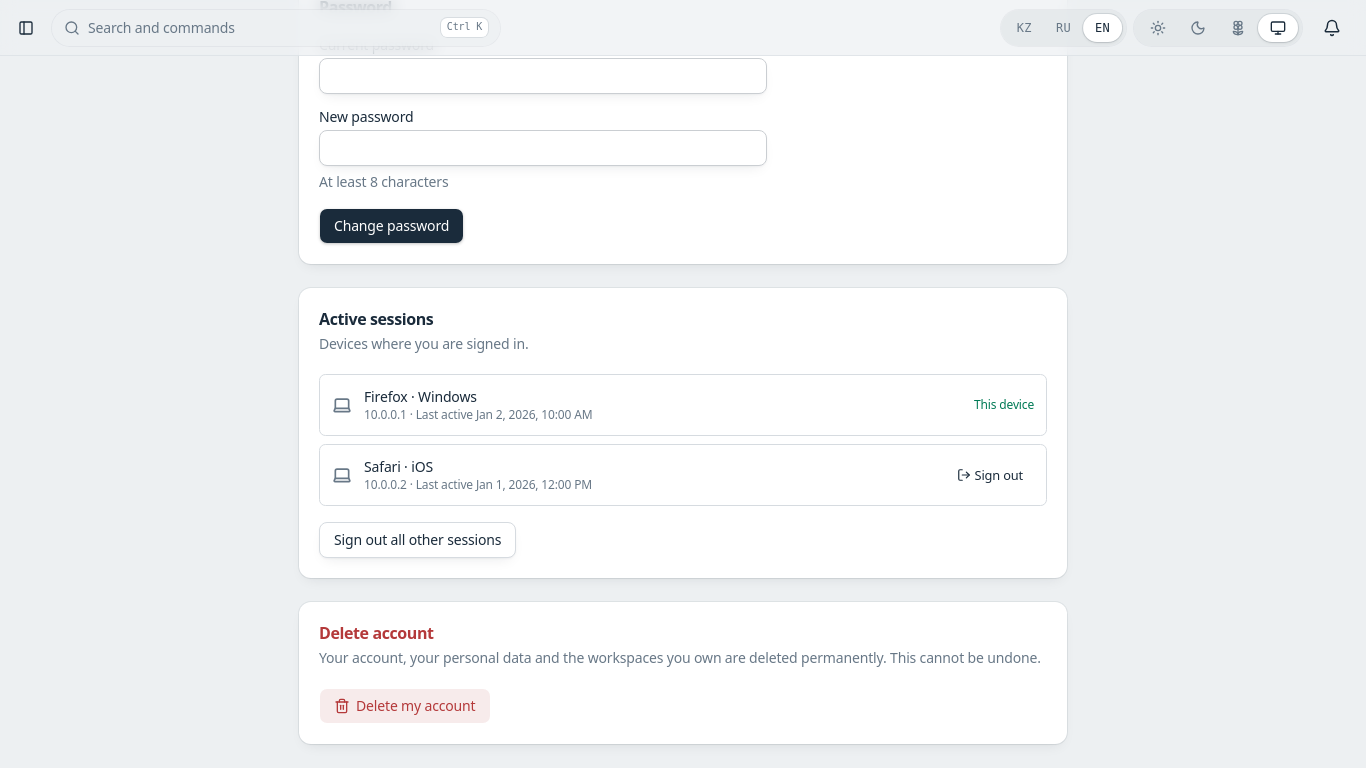
Test: settings › requires the password and a confirmation before deleting the account
(page scrolled)
Click the button "Delete my account": (405, 706) 319,688 -> 490,724
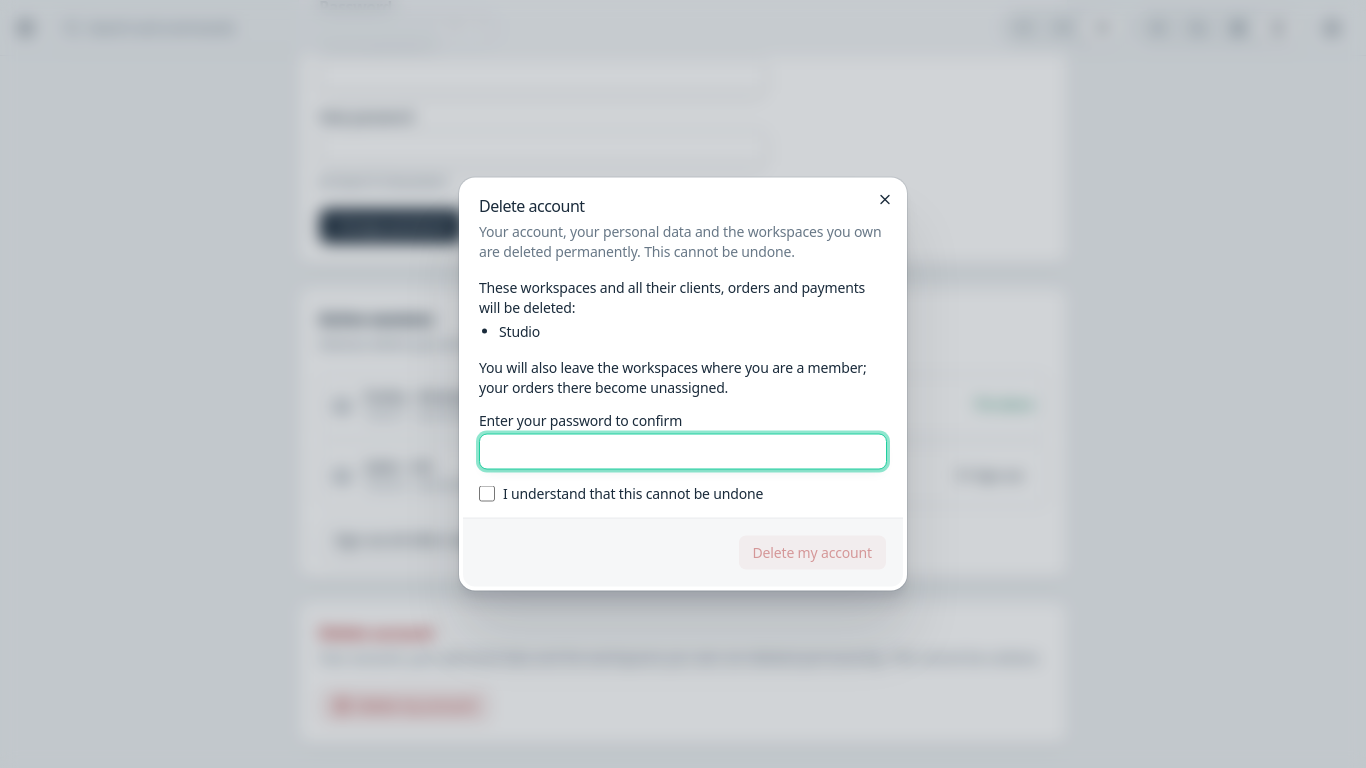
Result: the list item "Studio" is shown at 499,322 -> 540,340
Result: the button "Delete my account" is disabled at 738,534 -> 887,570
In the password field labelled "Enter your password to confirm": (683, 452) 479,434 -> 887,470, type "Str0ngPassw0rd!"
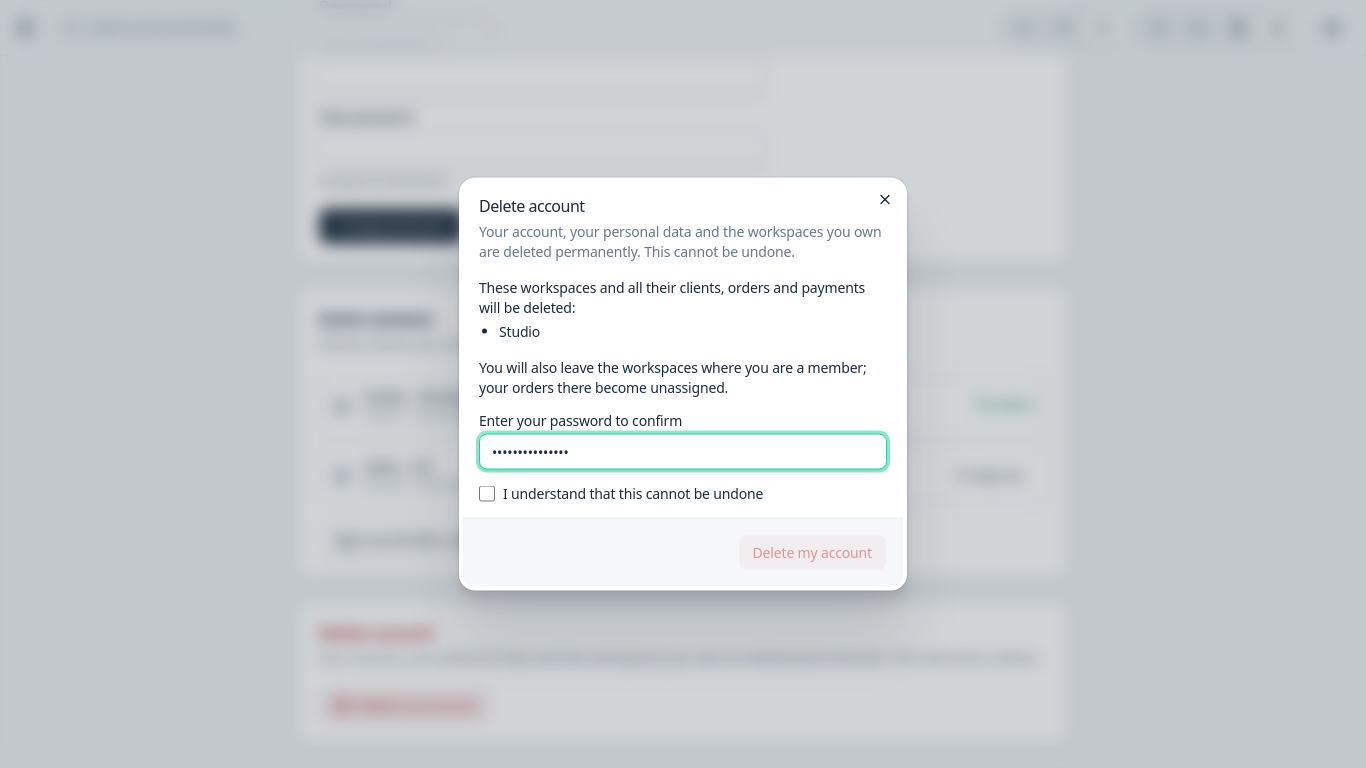
Result: the button "Delete my account" is disabled at 738,534 -> 887,570
Click the checkbox labelled "I understand that this cannot be undone": (487, 494) 479,486 -> 495,502
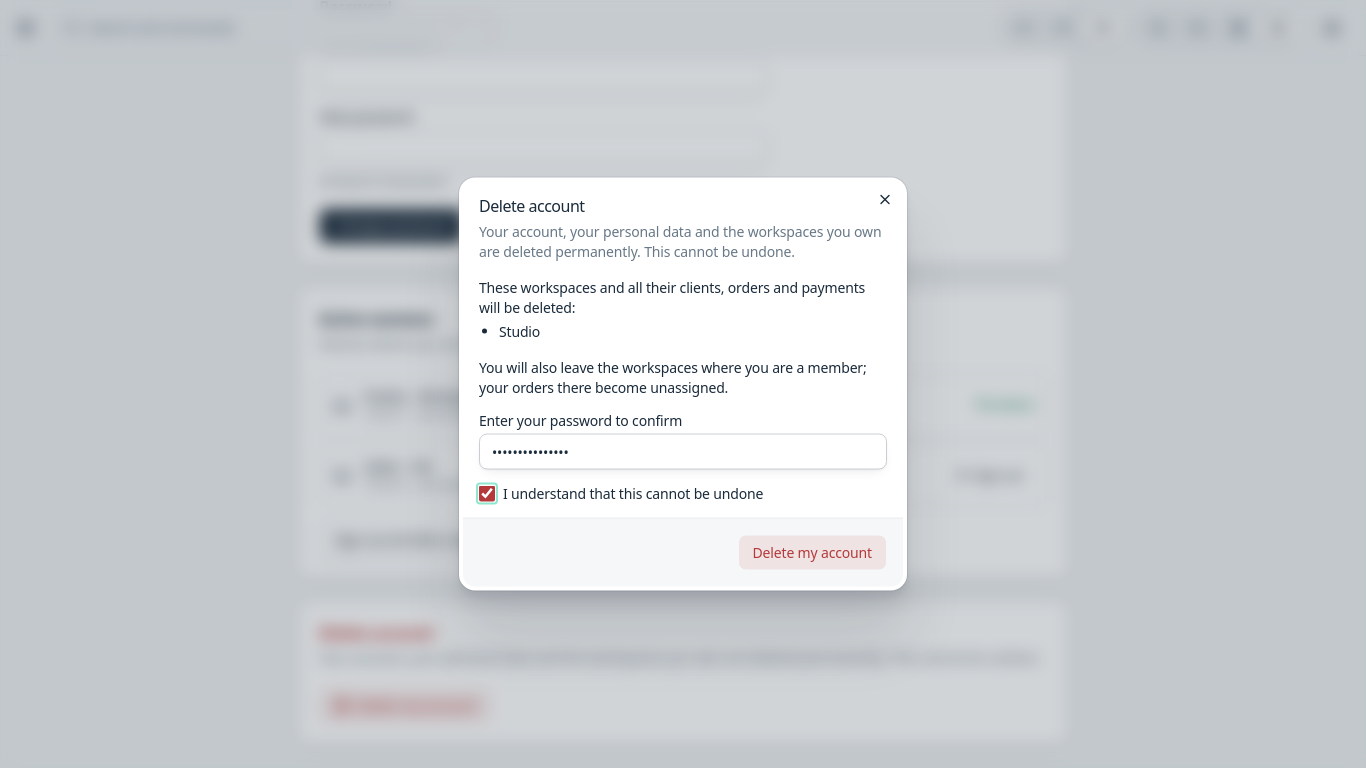
Click the button "Delete my account": (812, 552) 738,534 -> 887,570
(page scrolled)
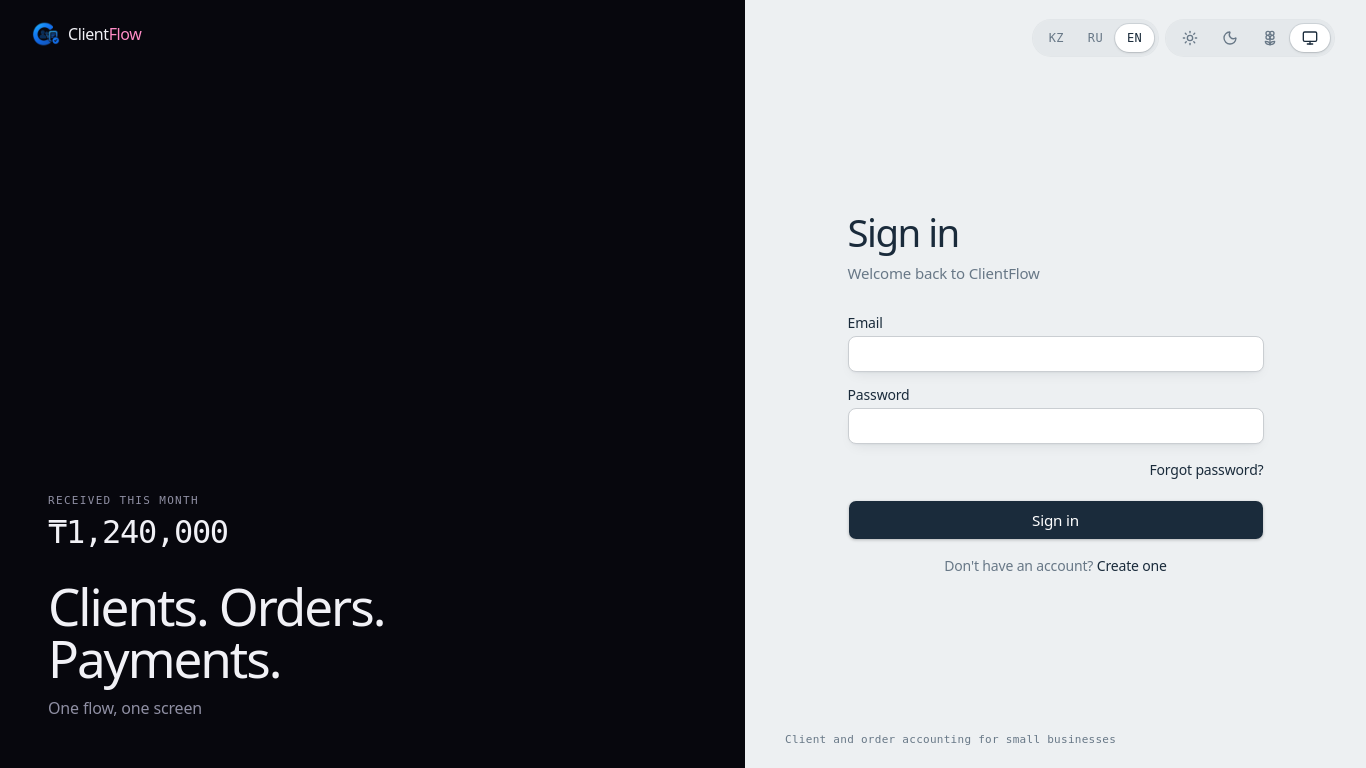
Result: the heading "Sign in" is shown at 848,206 -> 959,258
